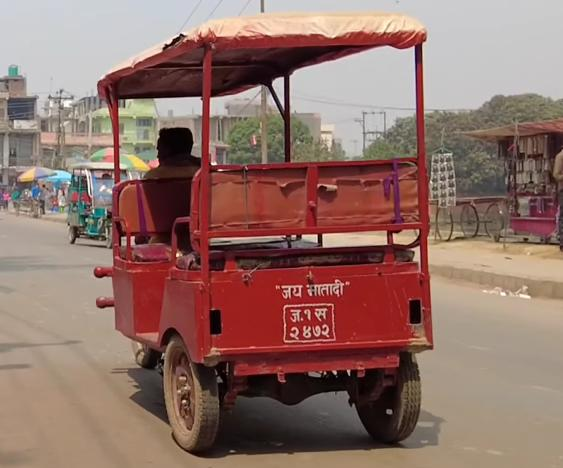e-rickshaw: (90, 12, 434, 446), (65, 160, 132, 249)
